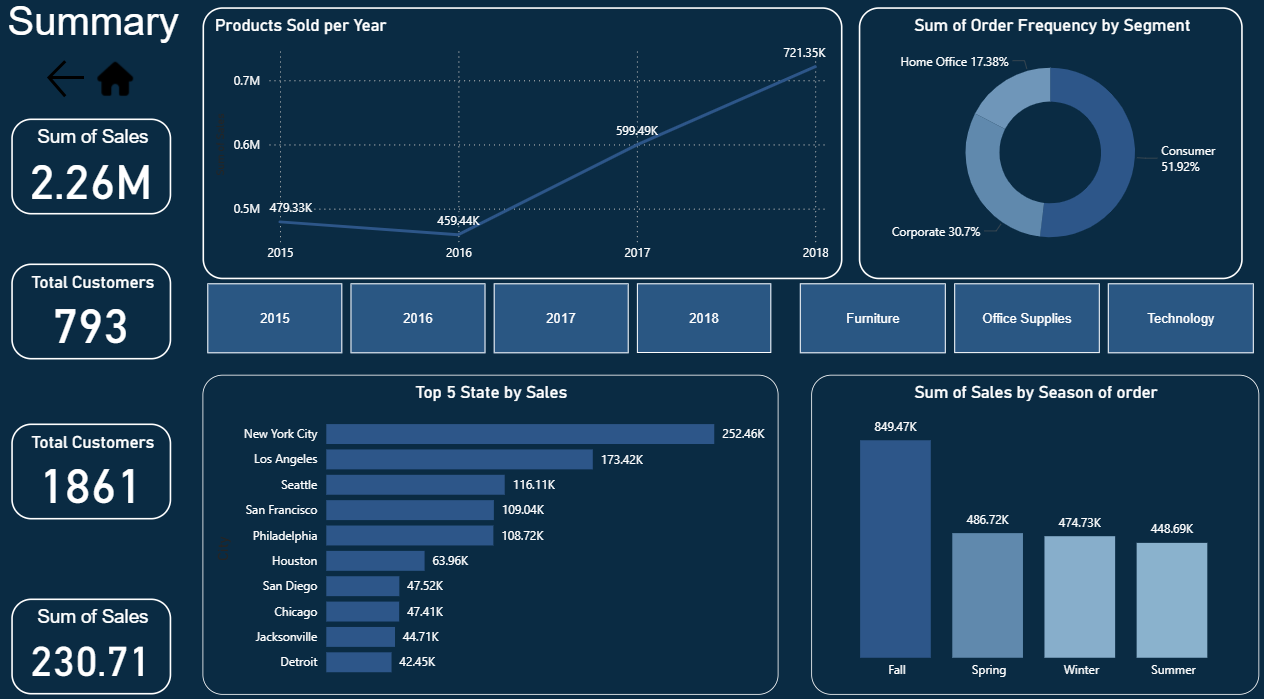

What the dashboard file says about the page in this screenshot:
{"tool":"powerbi","page":{"name":"Summary","canvas":[1280,720],"ordinal":4},"visuals":[{"type":"textbox","title":"Summary","box":[8,8,184,48],"z":0},{"type":"card","title":"Sum of Sales","fields":{"Values":["Sum(Final-project by Excel.Sales)"]},"box":[16,128,160,96],"z":1000},{"type":"card","title":"Total Customers","fields":{"Values":["Count(Final-project by Excel.Customer ID)"]},"box":[16,272,160,96],"z":2000},{"type":"card","title":"Total Customers","fields":{"Values":["Count(Final-project by Excel.Product ID)"]},"box":[16,432,160,96],"z":3000},{"type":"card","title":"Sum of Sales","fields":{"Values":["Avg(Final-project by Excel.Sales)"]},"box":[16,608,160,96],"z":4000},{"type":"lineChart","title":"Products Sold per Year","fields":{"Category":["Final-project by Excel.Order year"],"Y":["Sum(Final-project by Excel.Sales)"]},"box":[208,16,640,272],"z":5000},{"type":"donutChart","fields":{"Category":["Final-project by Excel.Segment"],"Y":["Sum(Final-project by Excel.Order Frequency)"]},"box":[864,16,384,256],"z":6000},{"type":"advancedSlicerVisual","fields":{"Values":["Final-project by Excel.Order Date.Variation.Date Hierarchy.Year"]},"box":[208,288,576,80],"z":7000},{"type":"advancedSlicerVisual","fields":{"Values":["Final-project by Excel.Category"]},"box":[800,288,464,80],"z":8000},{"type":"clusteredColumnChart","fields":{"Y":["Sum(Final-project by Excel.Sales)"],"Category":["Final-project by Excel.Season of order"]},"box":[960,400,304,304],"z":9000},{"type":"clusteredBarChart","title":"Top 5 State by Sales","fields":{"Y":["Sum(Final-project by Excel.Sales)"],"Category":["Final-project by Excel.City"]},"box":[208,368,512,336],"z":10000},{"type":"actionButton","box":[96,64,48,48],"z":11000},{"type":"actionButton","box":[48,64,48,48],"z":12000}]}

Visuals, with their boxes in screenshot pixels (x1, y1, x2, y2), scaled from the page's 1280x720 canvas onto the 1264x699 screenshot:
"Summary" textbox: Rect(8, 8, 190, 54)
"Sum of Sales" card: Rect(16, 124, 174, 217)
"Total Customers" card: Rect(16, 264, 174, 357)
"Total Customers" card: Rect(16, 419, 174, 513)
"Sum of Sales" card: Rect(16, 590, 174, 683)
"Products Sold per Year" lineChart: Rect(205, 16, 837, 280)
donutChart - Final-project by Excel.Segment x Sum(Final-project by Excel.Order Frequency): Rect(853, 16, 1232, 264)
advancedSlicerVisual - Final-project by Excel.Order Date.Variation.Date Hierarchy.Year: Rect(205, 280, 774, 357)
advancedSlicerVisual - Final-project by Excel.Category: Rect(790, 280, 1248, 357)
clusteredColumnChart - Sum(Final-project by Excel.Sales) x Final-project by Excel.Season of order: Rect(948, 388, 1248, 683)
"Top 5 State by Sales" clusteredBarChart: Rect(205, 357, 711, 683)
actionButton: Rect(95, 62, 142, 109)
actionButton: Rect(47, 62, 95, 109)
